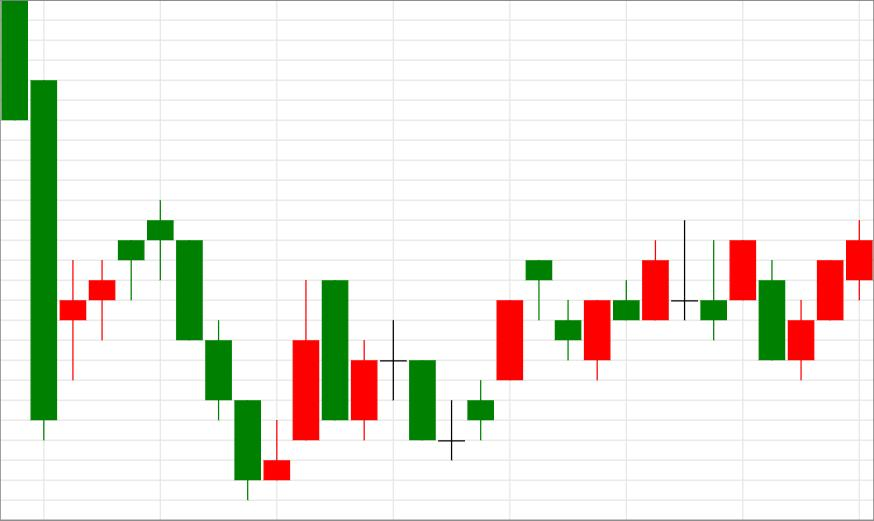three_black_crows_fall: (60, 201, 262, 501)
